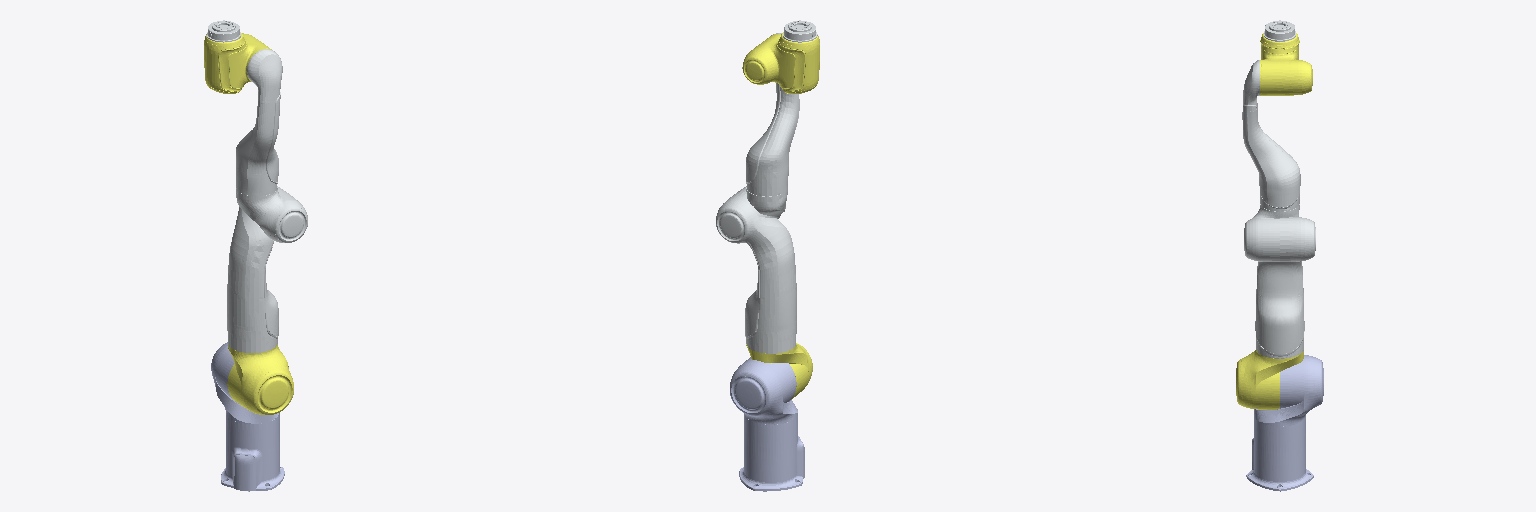
URDF robot description (diana7):
<?xml version="1.0" ?>
<!-- =================================================================================== -->
<!-- |    This document was autogenerated by xacro from diana7.urdf.xacro              | -->
<!-- |    EDITING THIS FILE BY HAND IS NOT RECOMMENDED                                 | -->
<!-- =================================================================================== -->
<robot name="diana7">
  <link name="world">
    <origin rpy="0 0 0" xyz="0 0 0"/>
  </link>
  <link name="base_link">
    <inertial>
      <origin rpy="0 0 0" xyz="0.00153097191906452 0.00152031034664837 0.0524230280849149"/>
      <mass value="1.33110743457779"/>
      <inertia ixx="0.00695879790529406" ixy="9.99328685258342E-05" ixz="7.99577031212481E-05" iyy="0.00695365531716522" iyz="7.90796997368543E-05" izz="0.00729823323321907"/>
    </inertial>
    <visual>
      <origin rpy="0 0 0" xyz="0 0 0"/>
      <geometry>
        <mesh filename="package://diana7_description/meshes/visual/base.obj"/>
      </geometry>
      <material name="">
        <color rgba="0.796078431372549 0.823529411764706 0.937254901960784 1"/>
      </material>
    </visual>
    <collision>
      <origin rpy="0 0 0" xyz="0 0 0"/>
      <geometry>
        <mesh filename="package://diana7_description/meshes/collision/base.stl"/>
      </geometry>
    </collision>
  </link>
  <joint name="base_joint" type="fixed">
    <parent link="world"/>
    <child link="base_link"/>
  </joint>
  <link name="link_1">
    <inertial>
      <origin rpy="0 0 0" xyz="5.5234067920554E-05  -0.0254878204920178 0.0355441421264809"/>
      <mass value="1.09025546409174"/>
      <inertia ixx="0.00585031196428369" ixy="1.4630349447555E-07" ixz="1.35351687162397E-06" iyy="0.00645496952227061" iyz="-0.00104800484741808" izz="0.00459531291521244"/>
    </inertial>
    <visual>
      <origin rpy="3.1415926531795866 0 0" xyz="0 0 0"/>
      <geometry>
        <mesh filename="package://diana7_description/meshes/visual/link_1.obj"/>
      </geometry>
      <material name="">
        <color rgba="0.796078431372549 0.823529411764706 0.937254901960784 1"/>
      </material>
    </visual>
    <collision>
      <origin rpy="3.1415926531795866 0 0" xyz="0 0 0"/>
      <geometry>
        <mesh filename="package://diana7_description/meshes/collision/link_1.stl"/>
      </geometry>
    </collision>
  </link>
  <joint name="joint_1" type="revolute">
    <origin rpy="-3.1415926535795866 0.0 -0.0" xyz="0.0 -2.9150689157e-12 0.2856"/>
    <parent link="base_link"/>
    <child link="link_1"/>
    <axis xyz="0 0 1"/>
    <limit effort="235" lower="-3.12" upper="3.12" velocity="2.61"/>
  </joint>
  <link name="link_2">
    <inertial>
      <origin rpy="0 0 0" xyz="-3.62724763868157E-06 -0.0292741005087307 -0.041280769252073"/>
      <mass value="1.09515454908799"/>
      <inertia ixx="0.00575817488413533" ixy="4.92454490330888E-07" ixz="-5.75758988171004E-07" iyy="0.00452592941277235" iyz="0.00135206824645357" izz="0.0058904584276842"/>
    </inertial>
    <visual>
      <origin rpy="0 0 0" xyz="0 0 0"/>
      <geometry>
        <mesh filename="package://diana7_description/meshes/visual/link_2.obj"/>
      </geometry>
      <material name="">
        <color rgba="0.980392156862745 0.980392156862745 0.470588235294118 1"/>
      </material>
    </visual>
    <collision>
      <origin rpy="0 0 0" xyz="0 0 0"/>
      <geometry>
        <mesh filename="package://diana7_description/meshes/collision/link_2.stl"/>
      </geometry>
    </collision>
  </link>
  <joint name="joint_2" type="revolute">
    <origin rpy="1.57079632679 -0.0 0.0" xyz="0.0 -0.0 0.0"/>
    <parent link="link_1"/>
    <child link="link_2"/>
    <axis xyz="0 0 1"/>
    <limit effort="235" lower="-1.57" upper="1.57" velocity="2.618"/>
  </joint>
  <link name="link_3">
    <inertial>
      <origin rpy="0 3.1415926531795866 3.1415926531795866" xyz="0.0114318213510691 -0.0101707598694861 0.15131695375217"/>
      <mass value="2.01686690128149"/>
      <inertia ixx="0.0362470020041464" ixy="-0.00099203786071914" ixz="-0.00494440140493448" iyy="0.0374857206758098" iyz="-0.00313859974095155" izz="0.00905850119342719"/>
    </inertial>
    <visual>
      <origin rpy="3.1415926531795866 0 0" xyz="0 0 0"/>
      <geometry>
        <mesh filename="package://diana7_description/meshes/visual/link_3.obj"/>
      </geometry>
      <material name="">
        <color rgba="0.898039215686275 0.917647058823529 0.929411764705882 1"/>
      </material>
    </visual>
    <collision>
      <origin rpy="3.1415926531795866 0 0" xyz="0 0 0"/>
      <geometry>
        <mesh filename="package://diana7_description/meshes/collision/link_3.stl"/>
      </geometry>
    </collision>
  </link>
  <joint name="joint_3" type="revolute">
    <origin rpy="-1.57079632679 0.0 0.0" xyz="0.0 -0.4586 -2.24557565126e-12"/>
    <parent link="link_2"/>
    <child link="link_3"/>
    <axis xyz="0 0 1"/>
    <limit effort="111" lower="-3.12" upper="3.12" velocity="2.61"/>
  </joint>
  <link name="link_4">
    <inertial>
      <origin rpy="0 0 0" xyz="-0.0240716370537192 -0.0235631728011761 -0.0366858174253844"/>
      <mass value="0.849743349506889"/>
      <inertia ixx="0.00313444335639628" ixy="-0.000681243351041131" ixz="0.000725380047812207" iyy="0.00333717642442852" iyz="0.000771057559109157" izz="0.0034847726349841"/>
    </inertial>
    <visual>
      <origin rpy="0 0 0" xyz="0 0 0"/>
      <geometry>
        <mesh filename="package://diana7_description/meshes/visual/link_4.obj"/>
      </geometry>
      <material name="">
        <color rgba="0.898039215686275 0.917647058823529 0.929411764705882 1"/>
      </material>
    </visual>
    <collision>
      <origin rpy="0 0 0" xyz="0 0 0"/>
      <geometry>
        <mesh filename="package://diana7_description/meshes/collision/link_4.stl"/>
      </geometry>
    </collision>
  </link>
  <joint name="joint_4" type="revolute">
    <origin rpy="1.57079632679 -0.0 0.0" xyz="0.065 -0.0 0.0"/>
    <parent link="link_3"/>
    <child link="link_4"/>
    <axis xyz="0 0 1"/>
    <limit effort="111" lower="0" upper="3.05" velocity="2.61"/>
  </joint>
  <link name="link_5">
    <inertial>
      <origin rpy="0 3.1415926531795866 3.1415926531795866" xyz="-0.00867148011164554 0.0383499684802812 0.188626"/>
      <mass value="1.20580396965245"/>
      <inertia ixx="0.0218436427570802" ixy="-0.000309747330693722" ixz="0.00089039094846826" iyy="0.0205896836785318" iyz="0.00493573923914426" izz="0.00372270106038425"/>
    </inertial>
    <visual>
      <origin rpy="3.1415926531795866 0 0" xyz="0 0 -0.02162"/>
      <geometry>
        <mesh filename="package://diana7_description/meshes/visual/link_5.obj"/>
      </geometry>
      <material name="">
        <color rgba="0.898039215686275 0.917647058823529 0.929411764705882 1"/>
      </material>
    </visual>
    <collision>
      <origin rpy="3.1415926531795866 0 0" xyz="0 0 -0.02162"/>
      <geometry>
        <mesh filename="package://diana7_description/meshes/collision/link_5.stl"/>
      </geometry>
    </collision>
  </link>
  <joint name="joint_5" type="revolute">
    <origin rpy="-1.57079632679 0.0 0.0" xyz="-0.0528 -0.4554 -2.22990656691e-12"/>
    <parent link="link_4"/>
    <child link="link_5"/>
    <axis xyz="0 0 1"/>
    <limit effort="54" lower="-3.12" upper="3.12" velocity="3.14"/>
  </joint>
  <link name="link_6">
    <inertial>
      <origin rpy="0 3.1415926531795866 3.1415926531795866" xyz="0.045897226241036 0.00848579821002571 -0.0078257811617596"/>
      <mass value="0.847157564562275"/>
      <inertia ixx="0.00286926864109097" ixy="-0.000341664135091818" ixz="-0.000318082297486923" iyy="0.0043294660443987" iyz="-5.82962380662208E-05" izz="0.00437292566725527"/>
    </inertial>
    <visual>
      <origin rpy="3.1415926531795866 0 3.14159265359" xyz="0 0 0"/>
      <geometry>
        <mesh filename="package://diana7_description/meshes/visual/link_6.obj"/>
      </geometry>
      <material name="">
        <color rgba="0.980392156862745 0.980392156862745 0.470588235294118 1"/>
      </material>
    </visual>
    <collision>
      <origin rpy="3.1415926531795866 0 3.14159265359" xyz="0 0 0"/>
      <geometry>
        <mesh filename="package://diana7_description/meshes/collision/link_6.stl"/>
      </geometry>
    </collision>
  </link>
  <joint name="joint_6" type="revolute">
    <origin rpy="1.57079632679 -1.0206823934513925e-11 -3.141592653589793" xyz="-0.0122 0.0 0.0"/>
    <parent link="link_5"/>
    <child link="link_6"/>
    <axis xyz="0 0 1"/>
    <limit effort="54" lower="-3.12" upper="3.12" velocity="3.14"/>
  </joint>
  <link name="link_7">
    <inertial>
      <origin rpy="0 0 0" xyz="0.00117005127509708 5.03191940906655E-06 0.0151381784822231"/>
      <mass value="0.233956150459573"/>
      <inertia ixx="0.000142027360977168" ixy="1.76426389345981E-08" ixz="2.14635741626268E-07" iyy="0.000134421724783865" iyz="-1.29988689037464E-09" izz="0.000240242798572463"/>
    </inertial>
    <visual>
      <origin rpy="0 0 0" xyz="0 0 0"/>
      <geometry>
        <mesh filename="package://diana7_description/meshes/visual/link_7.obj"/>
      </geometry>
      <material name="">
        <color rgba="0.898039215686275 0.917647058823529 0.929411764705882 1"/>
      </material>
    </visual>
    <collision>
      <origin rpy="0 0 0" xyz="0 0 0"/>
      <geometry>
        <mesh filename="package://diana7_description/meshes/collision/link_7.stl"/>
      </geometry>
    </collision>
  </link>
  <joint name="joint_7" type="revolute">
    <origin rpy="-1.57079632679 0.0 0.0" xyz="0.087 -0.1169 -5.72411237751e-13"/>
    <parent link="link_6"/>
    <child link="link_7"/>
    <axis xyz="0 0 1"/>
    <limit effort="54" lower="-3.12" upper="3.12" velocity="3.14"/>
  </joint>
</robot>

--- What the picture shows (computed from the rendered views, not written in the file) ---
Views: 3 orthographic renders of the robot side by side, from view 1: azimuth 30°, elevation 25°; view 2: azimuth 150°, elevation 25°; view 3: azimuth 270°, elevation 25°.
Model diana7 with 9 links and 8 joints (7 revolute, 1 fixed), rooted at world, posed every joint at zero.
Links seen in each view (by area): view 1: link_3, link_5, base_link, link_2, link_4, link_6, link_1, link_7; view 2: link_3, base_link, link_1, link_5, link_6, link_2, link_4, link_7; view 3: link_3, link_5, base_link, link_1, link_6, link_2, link_4, link_7.
Link boxes in pixels (x1,y1,x2,y2): link_3: (227, 186, 285, 352); link_5: (236, 49, 282, 195); base_link: (221, 414, 284, 491); link_2: (227, 344, 293, 414); link_4: (236, 187, 307, 242); link_6: (204, 33, 271, 93); link_1: (211, 342, 279, 423); link_7: (206, 20, 240, 42); link_3: (716, 191, 796, 353); base_link: (739, 415, 804, 491); link_1: (730, 357, 797, 424); link_5: (746, 33, 799, 196); link_6: (742, 32, 819, 93); link_2: (746, 343, 812, 399); link_4: (738, 186, 787, 218); link_7: (783, 20, 817, 42); link_3: (1255, 217, 1315, 358); link_5: (1242, 60, 1300, 211); base_link: (1246, 417, 1313, 491); link_1: (1254, 355, 1323, 426); link_6: (1260, 33, 1312, 95); link_2: (1236, 350, 1303, 409); link_4: (1244, 204, 1299, 261); link_7: (1264, 20, 1295, 41).
Size in the robot's own frame: 0.2651 by 0.2406 by 1.32 metres.
8 mesh visuals loaded from 8 distinct referenced files (8 OBJ).
